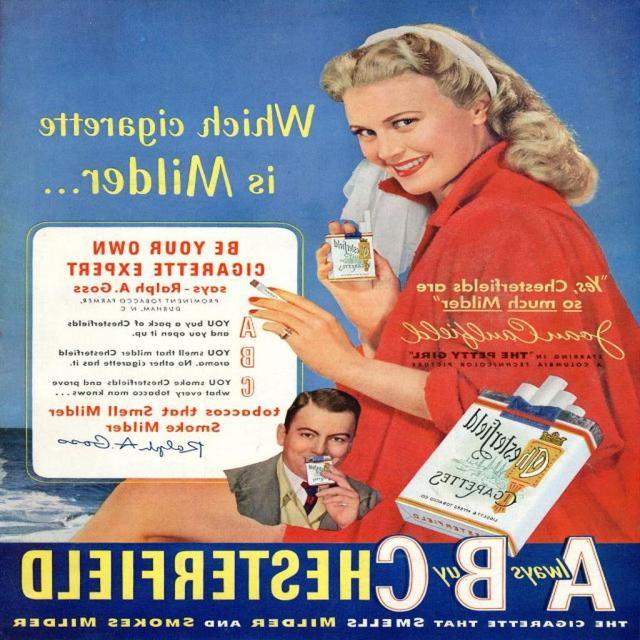smoking: (245, 27, 559, 354)
